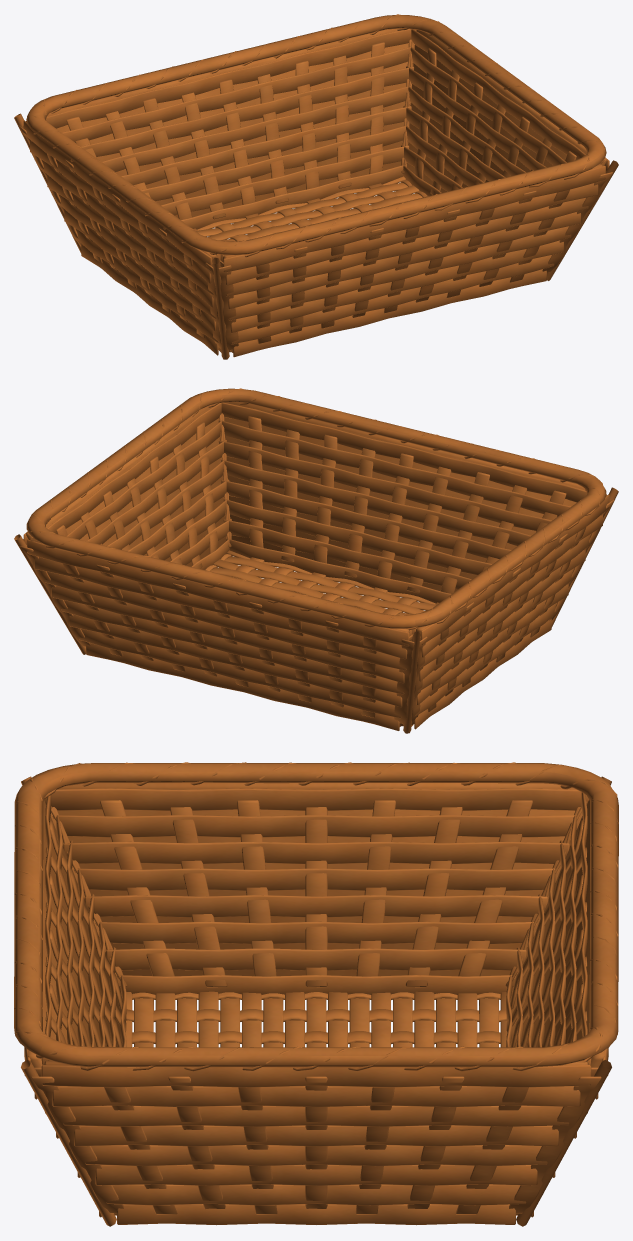
File: LowWideWovenBasket_RobloxTextured.fbx
3 views of the same model, one above another, from view 1: azimuth 30°, elevation 25°; view 2: azimuth 150°, elevation 25°; view 3: azimuth 270°, elevation 25° (orthographic). The views are drawn at different scales.
Visible parts, largest first — view 1: LowWideWovenBasket_RobloxTextured; view 2: LowWideWovenBasket_RobloxTextured; view 3: LowWideWovenBasket_RobloxTextured.
Part boxes in pixels (x1=…): LowWideWovenBasket_RobloxTextured: x1=14, y1=14, x2=618, y2=359; LowWideWovenBasket_RobloxTextured: x1=14, y1=388, x2=618, y2=733; LowWideWovenBasket_RobloxTextured: x1=14, y1=762, x2=618, y2=1226.
Bounding box in the file's own units: 261 × 83.8 × 225.
Materials: 1 (1 with a texture image).
